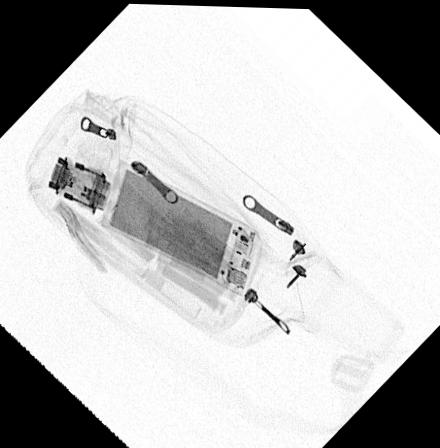Powerbank: (99, 156, 265, 297)
